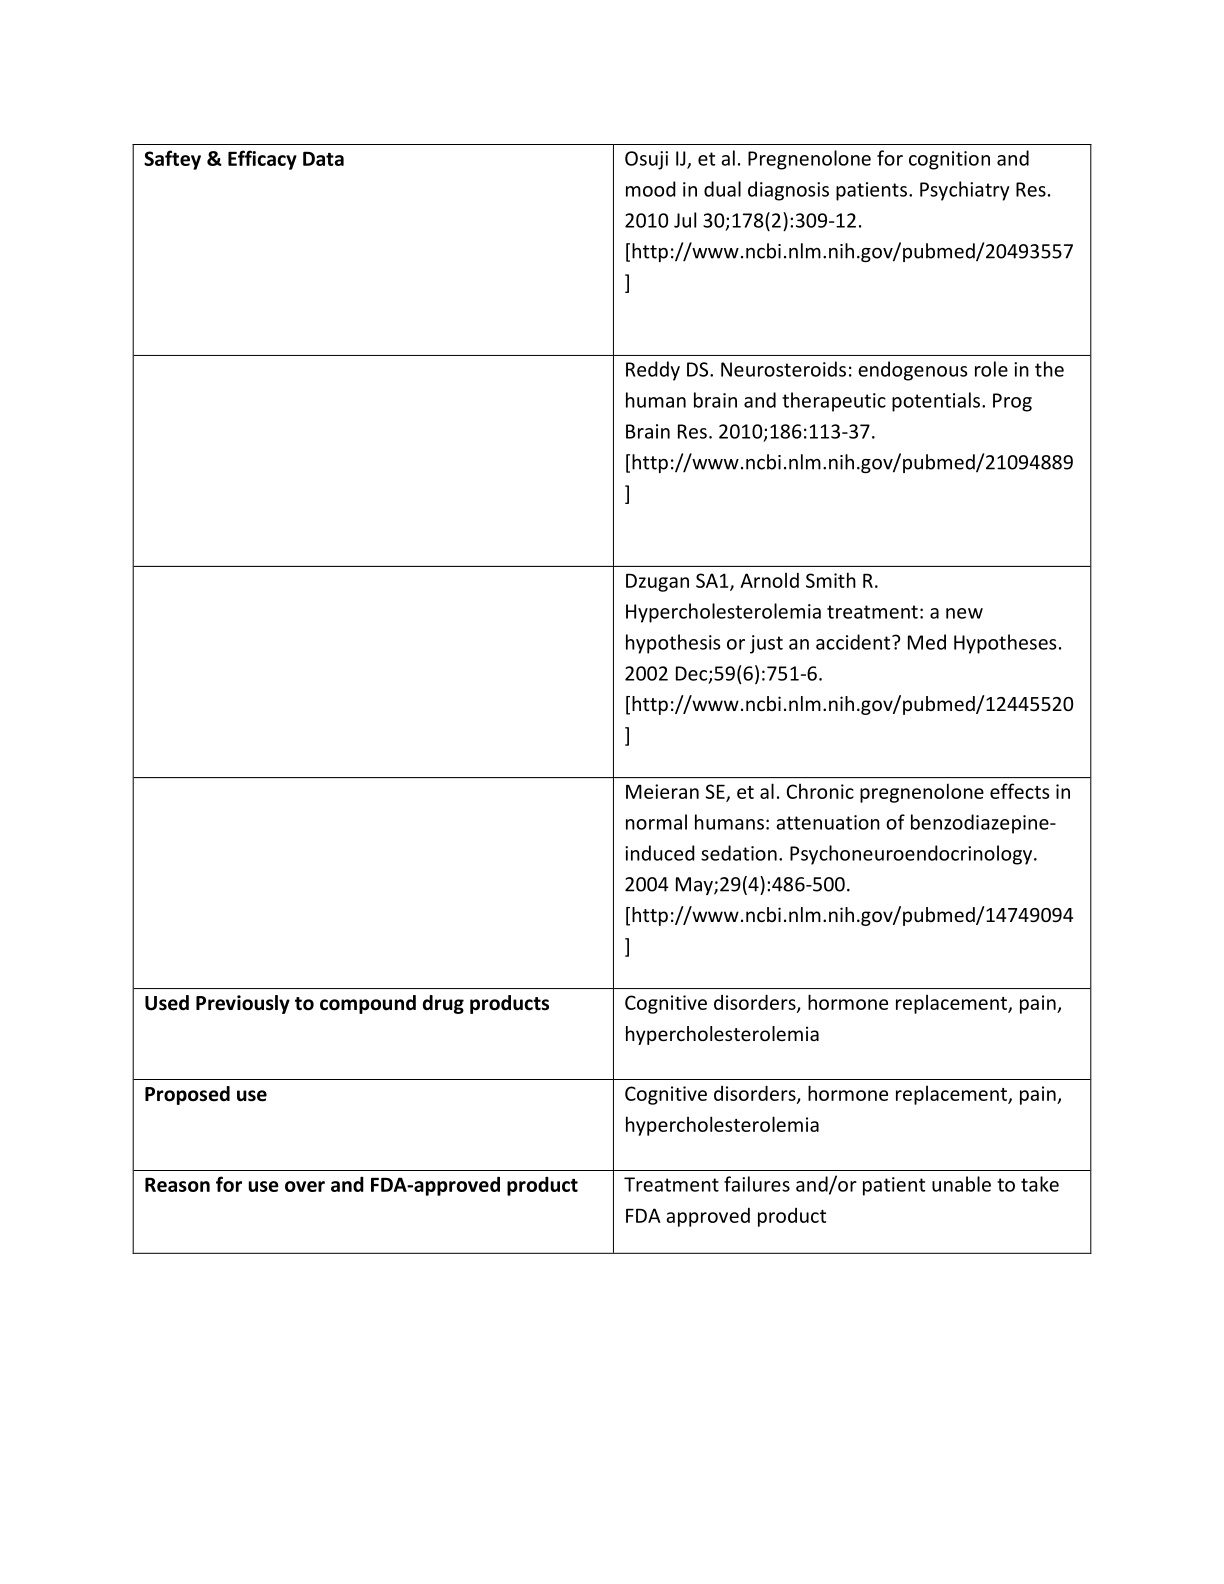full_lined: (132, 141, 1093, 1256)
